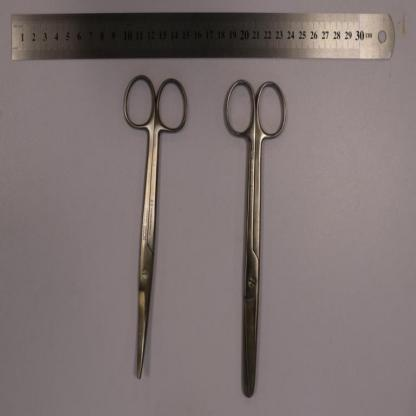Curved Mayo Scissors: (121, 72, 189, 381)
Dressing Scissors: (224, 77, 288, 397)
